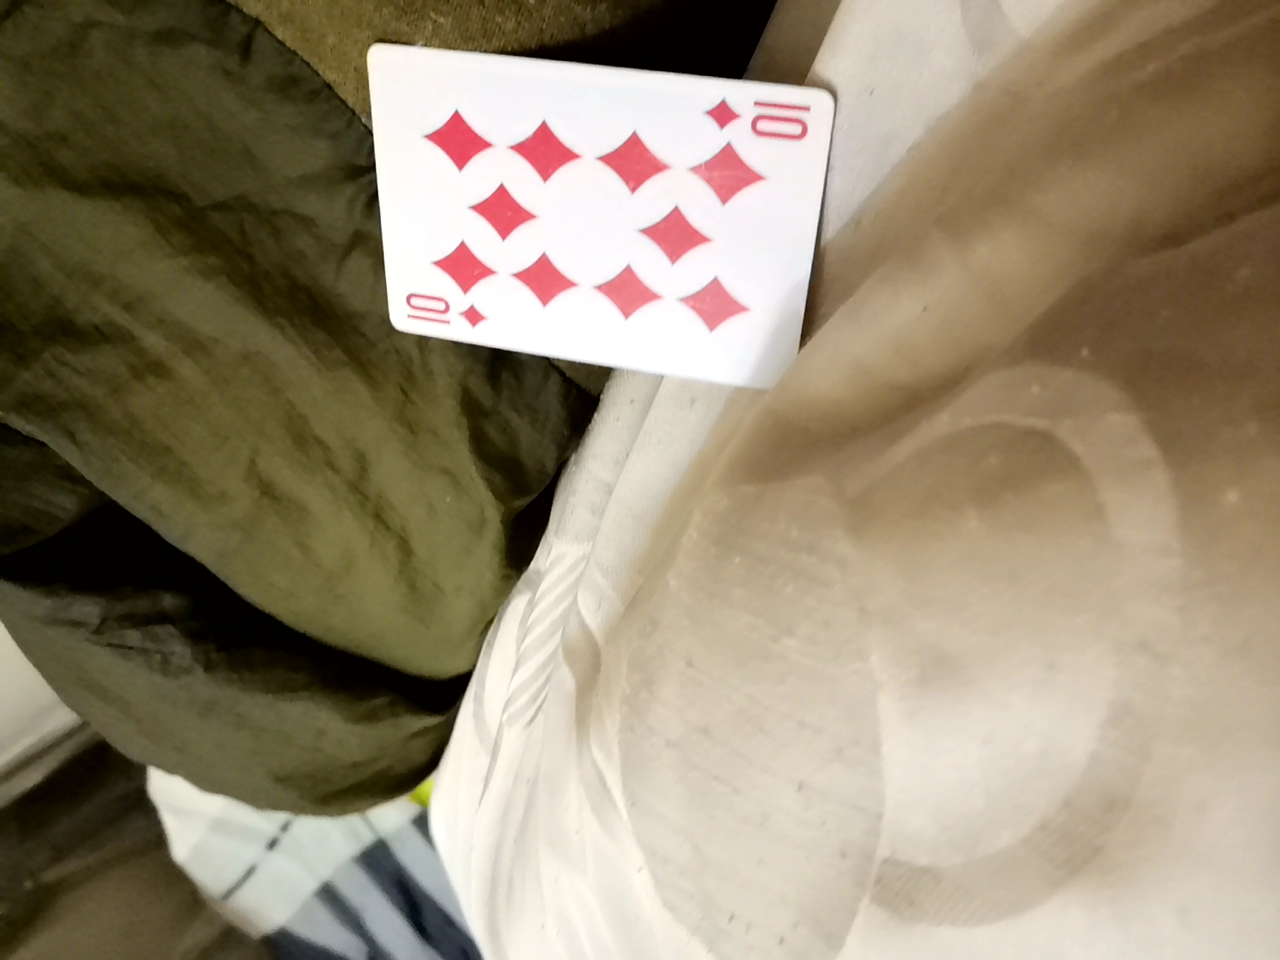fk 10: (331, 76, 788, 417)
